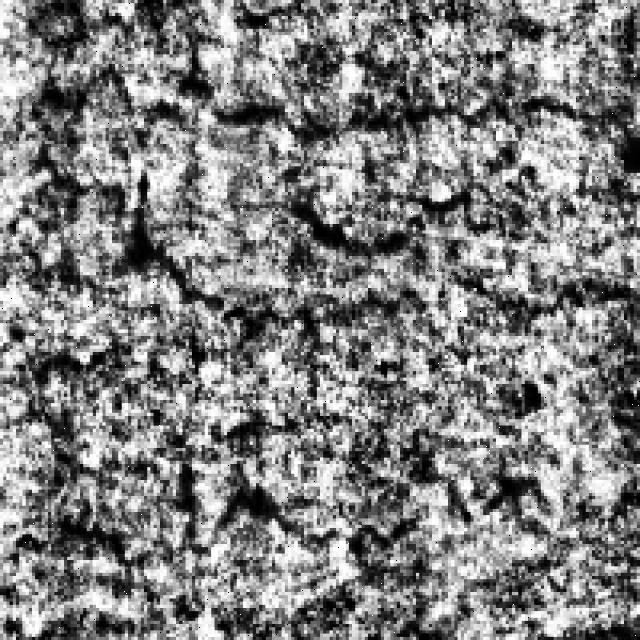Pitted_Surface: (32, 54, 522, 352), (3, 384, 554, 573), (105, 3, 620, 144)
